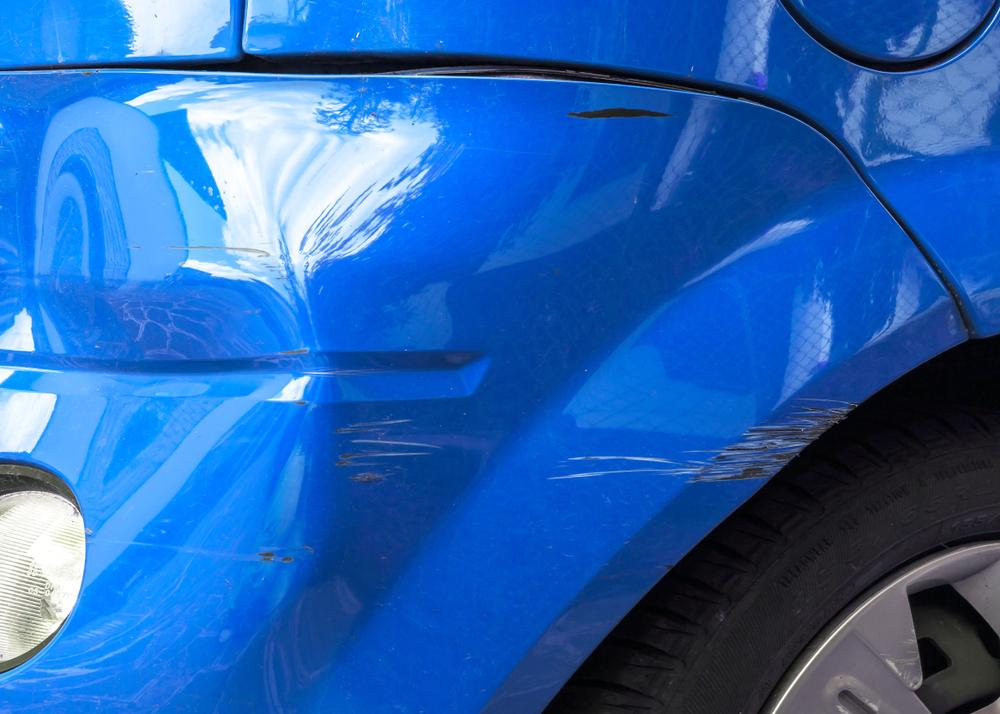dent: (0, 277, 329, 668)
scratch: (543, 393, 863, 489), (335, 412, 444, 488), (165, 238, 293, 287), (560, 104, 682, 118)
